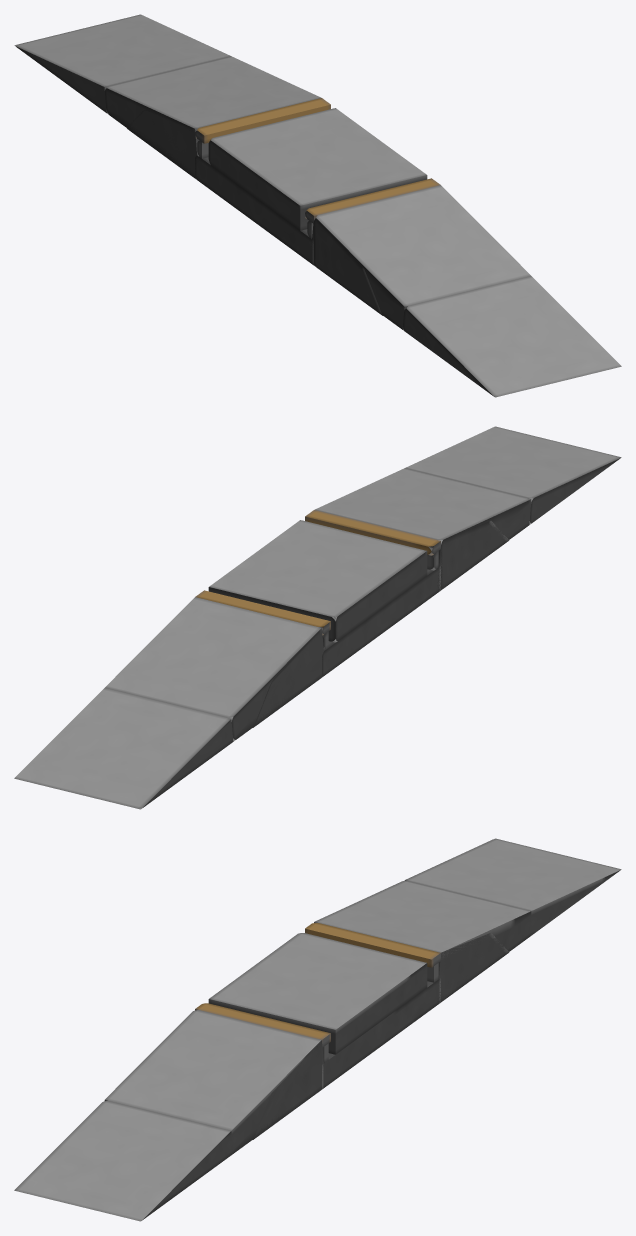
The model's file is wood_crossing.obj.
3 views of the same model, one above another, from view 1: azimuth 30°, elevation 25°; view 2: azimuth 150°, elevation 25°; view 3: azimuth 330°, elevation 25° (orthographic).
Visible parts, largest first — view 1: RAIL_LEFT, RAIL_RIGHT, RAIL_BASE; view 2: RAIL_RIGHT, RAIL_LEFT, RAIL_BASE; view 3: RAIL_LEFT, RAIL_RIGHT, RAIL_BASE.
Part boxes in pixels (x1,y1,x2,y2): RAIL_LEFT: (305,178,621,397); RAIL_RIGHT: (14,14,330,179); RAIL_BASE: (195,108,427,265); RAIL_RIGHT: (14,590,330,809); RAIL_LEFT: (305,426,621,590); RAIL_BASE: (208,520,440,677); RAIL_LEFT: (14,1003,330,1221); RAIL_RIGHT: (305,838,621,1004); RAIL_BASE: (208,933,440,1089).
Size of the model in its own units: 1 by 0.375 by 6.57.
1 material, 1 textured.
